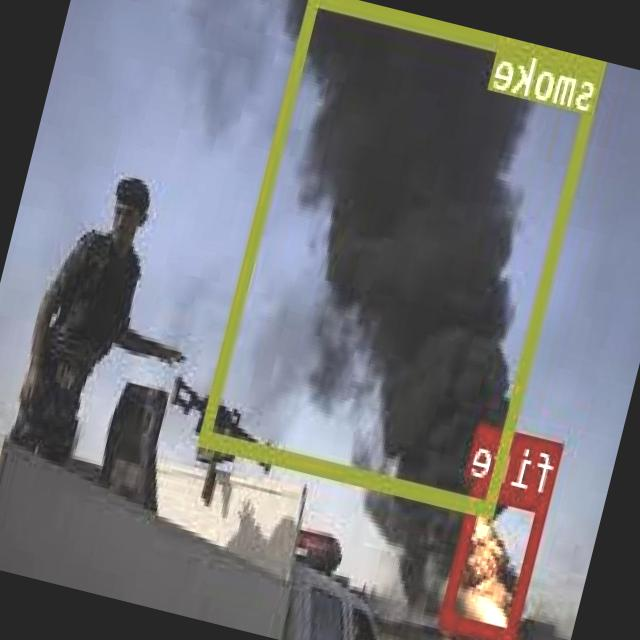fire: (440, 478, 551, 640)
smoke: (200, 0, 607, 517)
